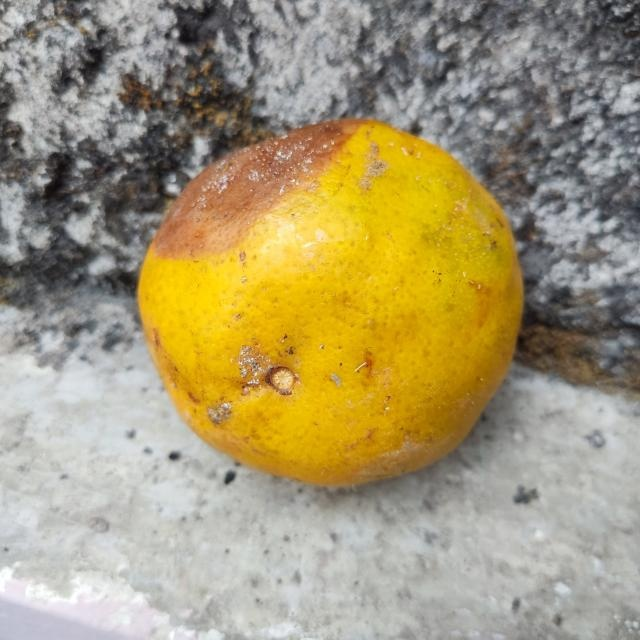agrume: (136, 116, 524, 485)
